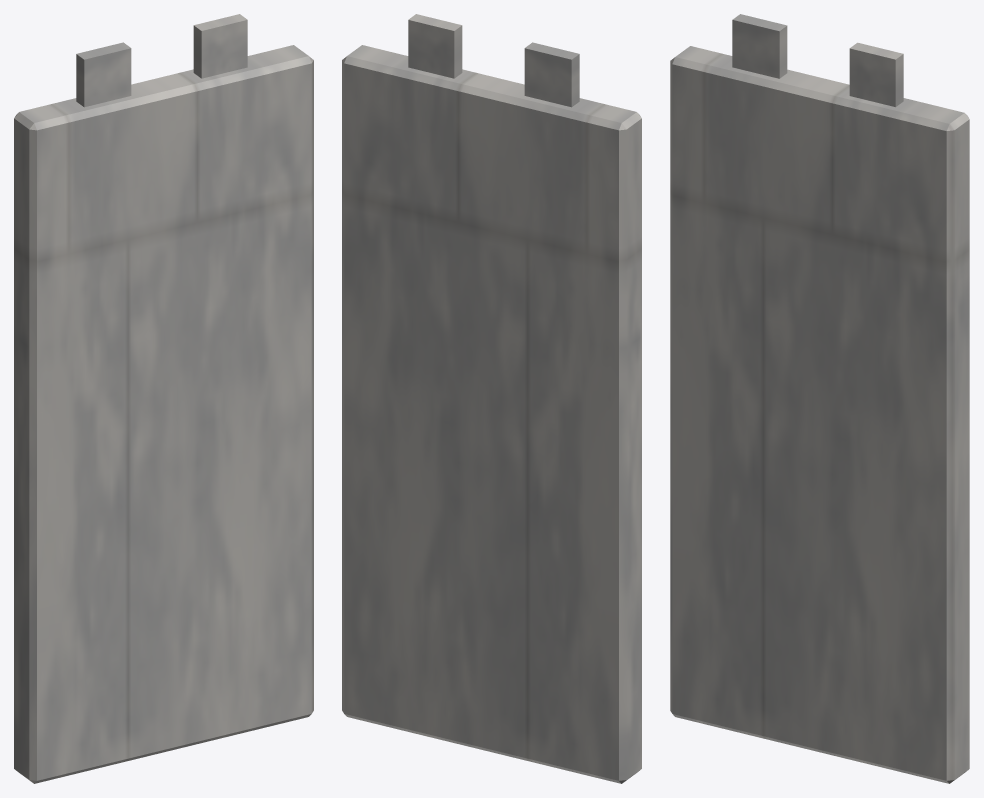
Rendered from Door_v03.fbx.
3 renders of one model, left to right at view 1: azimuth 30°, elevation 25°; view 2: azimuth 150°, elevation 25°; view 3: azimuth 330°, elevation 25°, orthographic.
Parts seen in each view (by area): view 1: Door_Size_03; view 2: Door_Size_03; view 3: Door_Size_03.
Boxes of the visible parts, bbox=[...] form: Door_Size_03: bbox=[14, 14, 313, 783]; Door_Size_03: bbox=[342, 14, 641, 783]; Door_Size_03: bbox=[670, 14, 969, 783].
Bounding box in the file's own units: 18.13 × 43.13 × 2.31.
